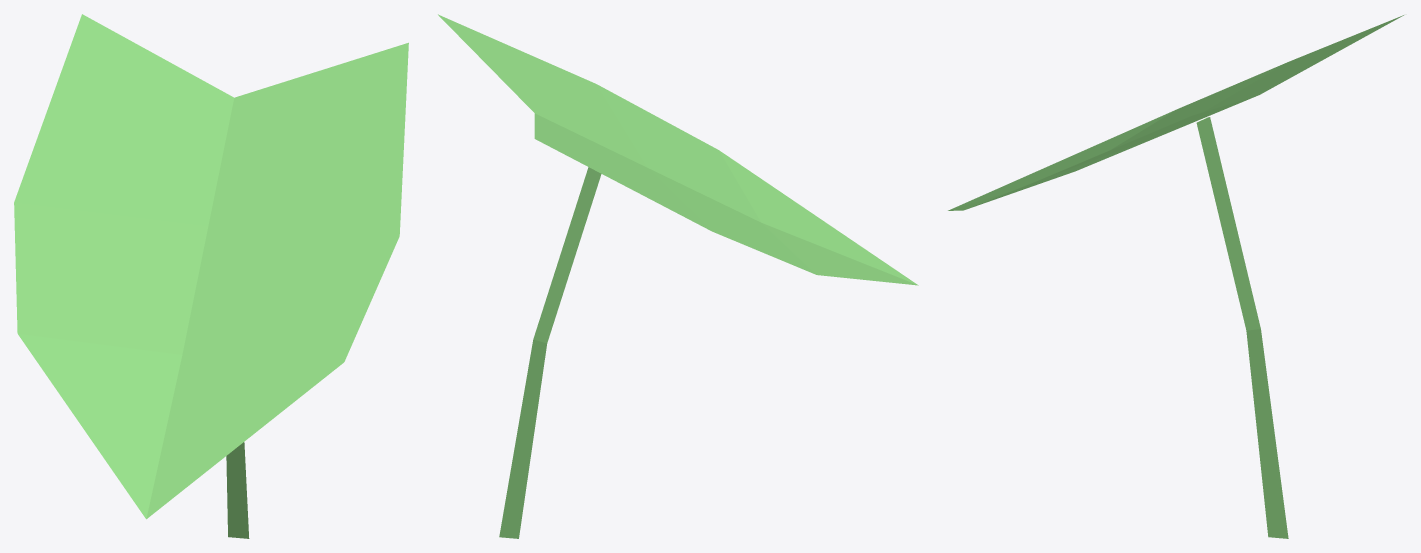
The model's file is Plant_c_OneS_01.fbx.
3 views of the same model, side by side, from view 1: azimuth 30°, elevation 25°; view 2: azimuth 150°, elevation 25°; view 3: azimuth 270°, elevation 25° (orthographic). The views are drawn at different scales.
Visible parts, largest first — view 1: Plant_c_OneS_01; view 2: Plant_c_OneS_01; view 3: Plant_c_OneS_01.
Part boxes in pixels (box(x1,y1,x2,y2)): Plant_c_OneS_01: box(14, 14, 408, 538); Plant_c_OneS_01: box(438, 14, 918, 538); Plant_c_OneS_01: box(948, 15, 1403, 538).
Size of the model in its own units: 49.71 by 59.01 by 51.34.
